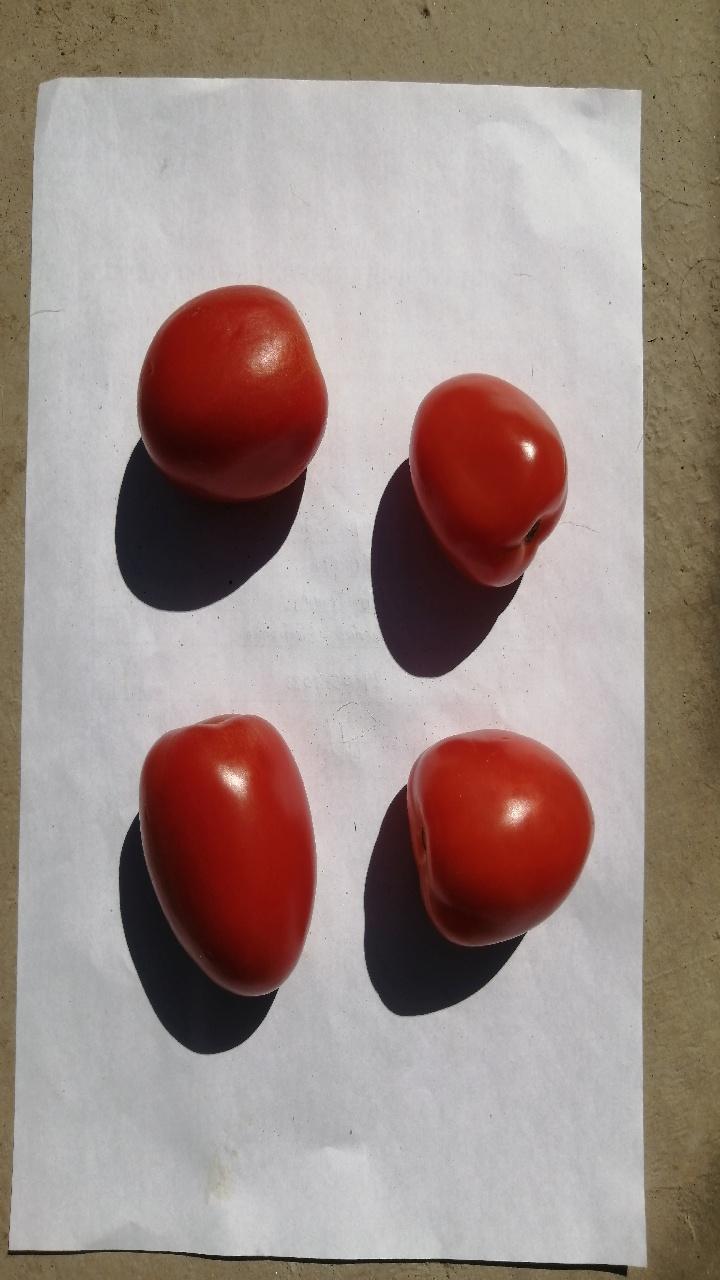tomateRojo: (115, 691, 328, 1019), (123, 252, 357, 526), (388, 703, 609, 962), (392, 349, 592, 603)
